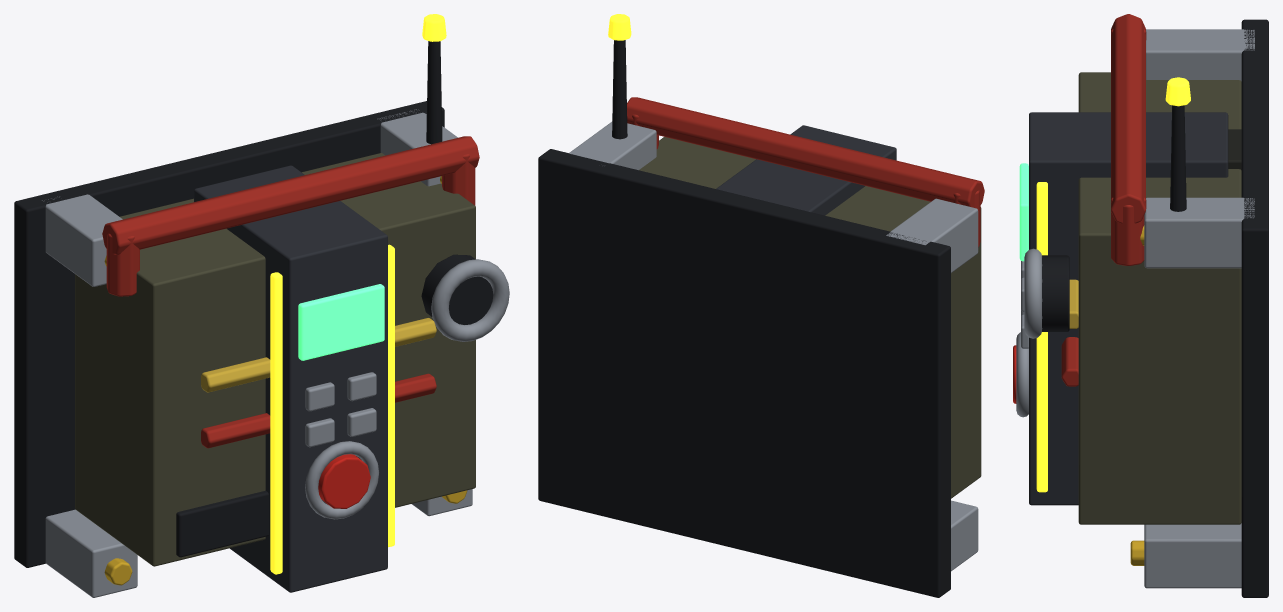
Rendered from weapon_c4_charge.glb.
The picture shows the model from 3 angles, left to right: view 1: azimuth 30°, elevation 25°; view 2: azimuth 150°, elevation 25°; view 3: azimuth 270°, elevation 25°; orthographic projection. The views are drawn at different scales.
Parts seen in each view (by area): view 1: c4_charge; view 2: c4_charge; view 3: c4_charge.
Part boxes in pixels (x1=…): c4_charge: x1=14, y1=14, x2=509, y2=597; c4_charge: x1=538, y1=14, x2=984, y2=597; c4_charge: x1=1013, y1=14, x2=1268, y2=597.
Size of the model in its own units: 0.22 by 0.242 by 0.113.
